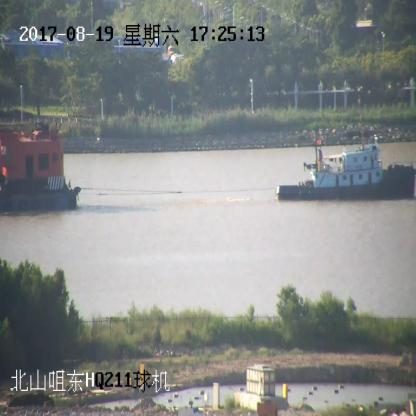Fishing Boat: (277, 136, 416, 198), (0, 126, 81, 212)
